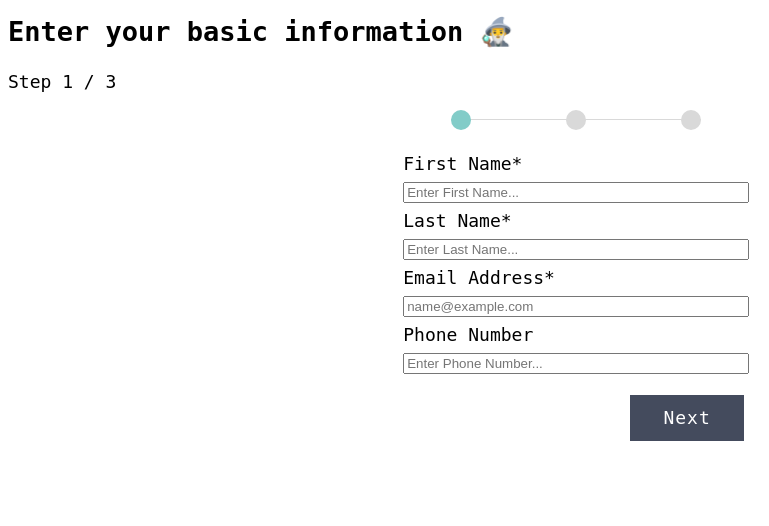
it: should be correct email format
Type "yueer" into the field with test id "fname" at [576, 192], box [403,182,749,203]
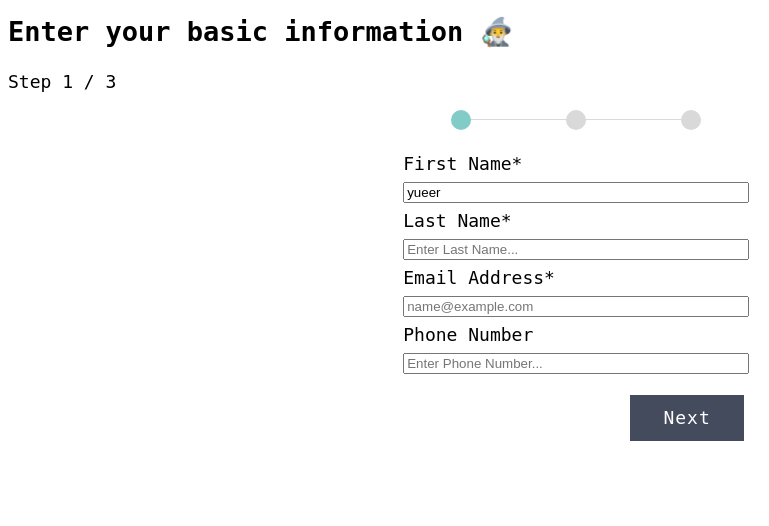
Type "chen" into the field with test id "lname" at [576, 249], box [403,239,749,260]
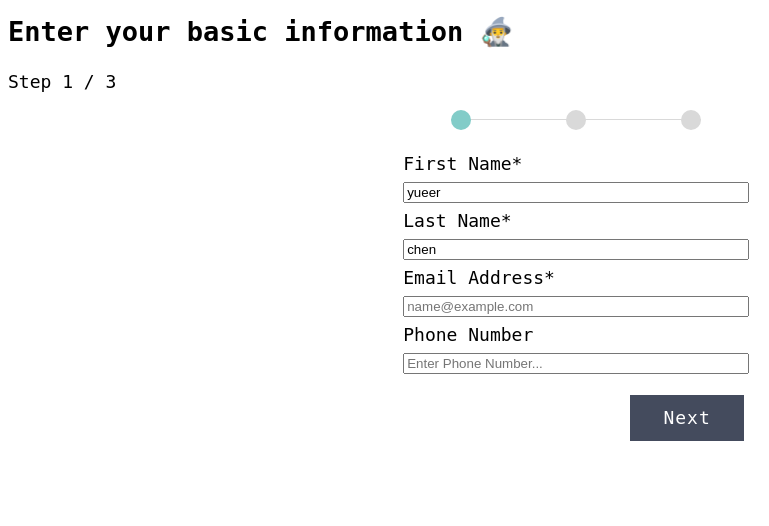
Type "yueer.chen0318@gmail" into the field with test id "email" at [576, 306], box [403,296,749,317]
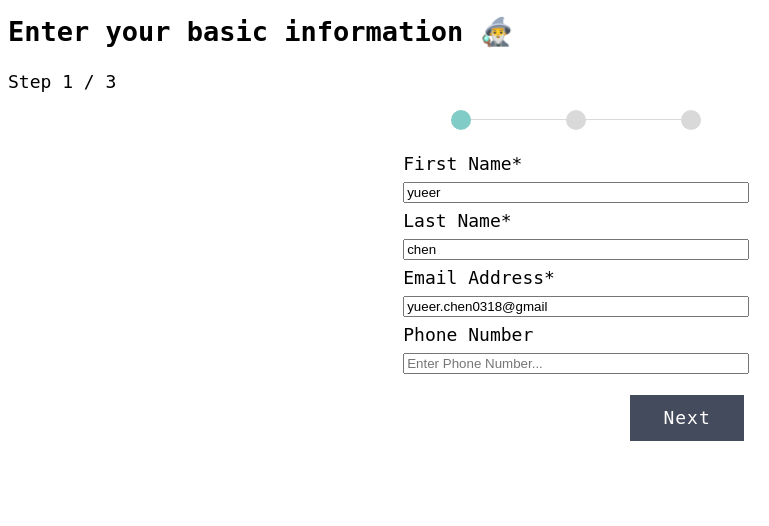
Click the button with test id "continue-first" at [687, 418], box [630,395,744,441]
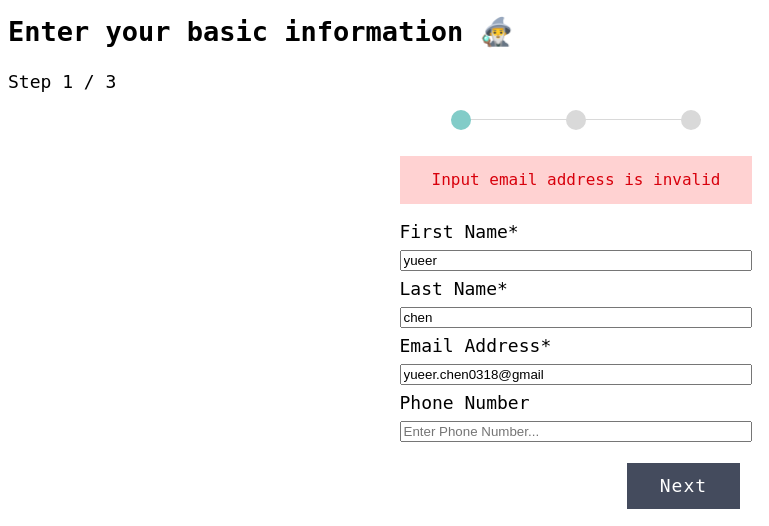
Now the text with test id "details-error" reads "Input email address is invalid", box [432,170,720,189]
